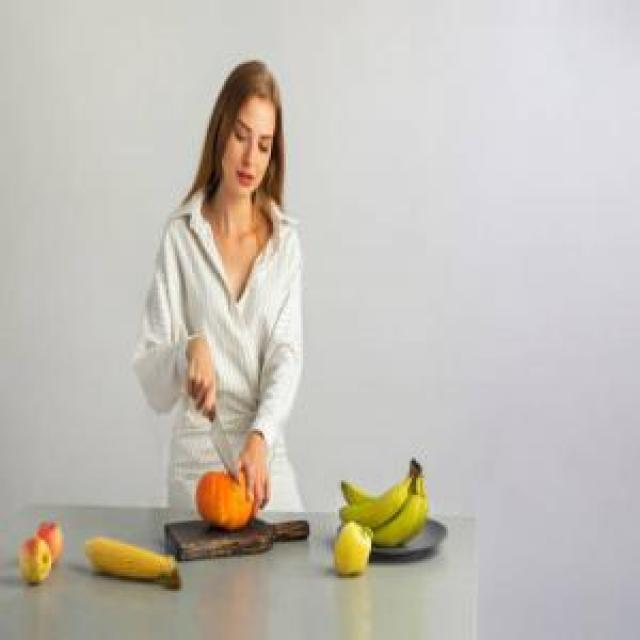knife: (192, 376, 241, 486)
